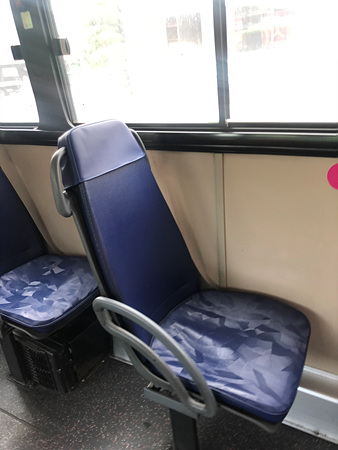seat: (53, 120, 314, 433)
